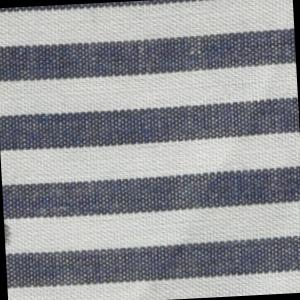Stain: (5, 220, 16, 250)
Wrinkle: (131, 52, 300, 298)
